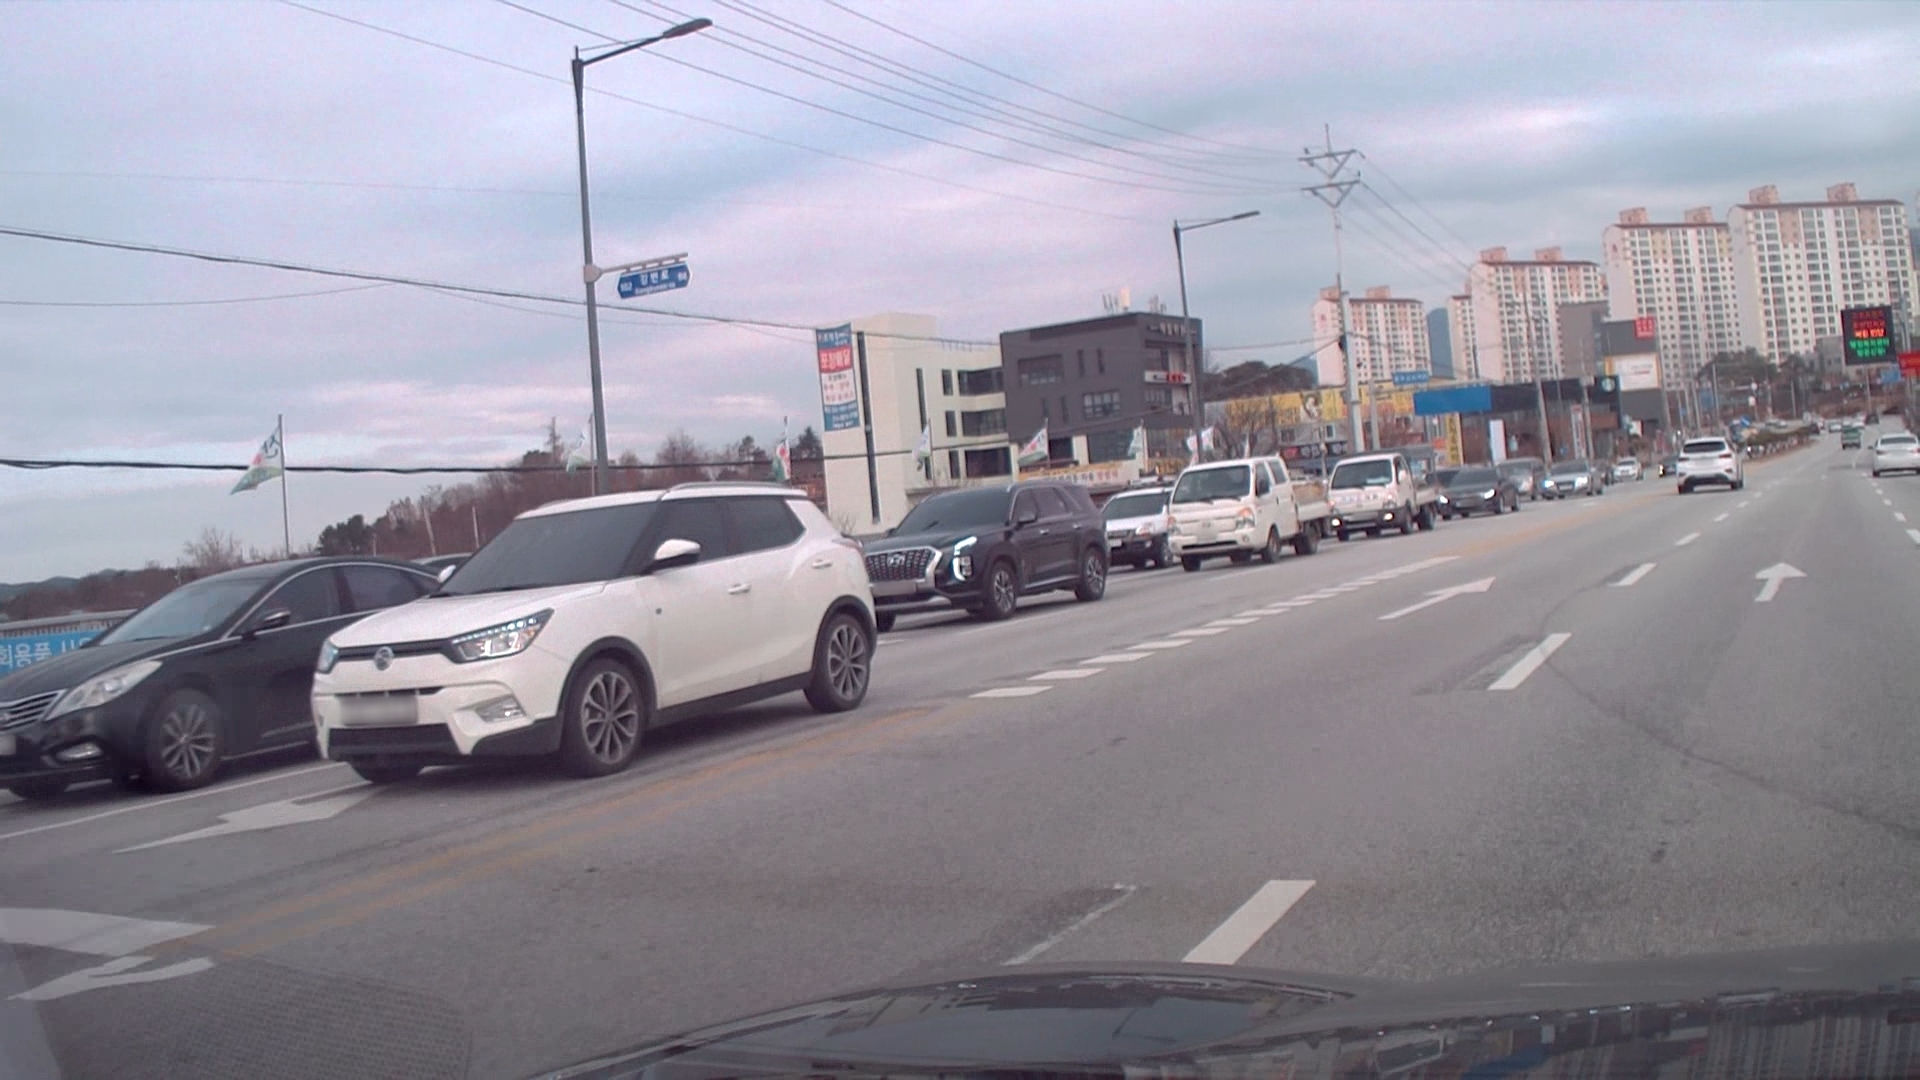trafficSignRTG: (1836, 303, 1898, 367)
